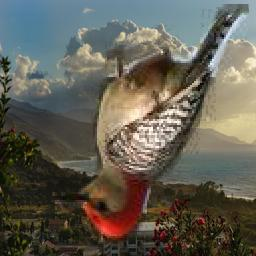Woodpecker: (53, 5, 250, 246)
